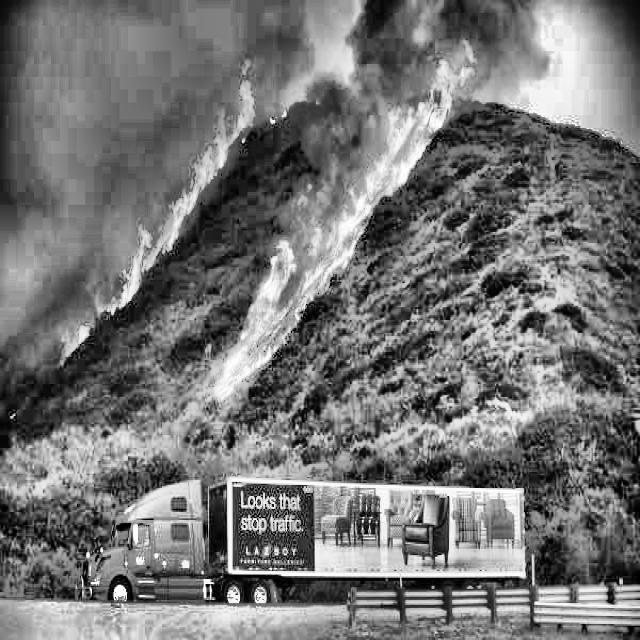fire: (218, 26, 428, 397), (44, 48, 270, 243)
